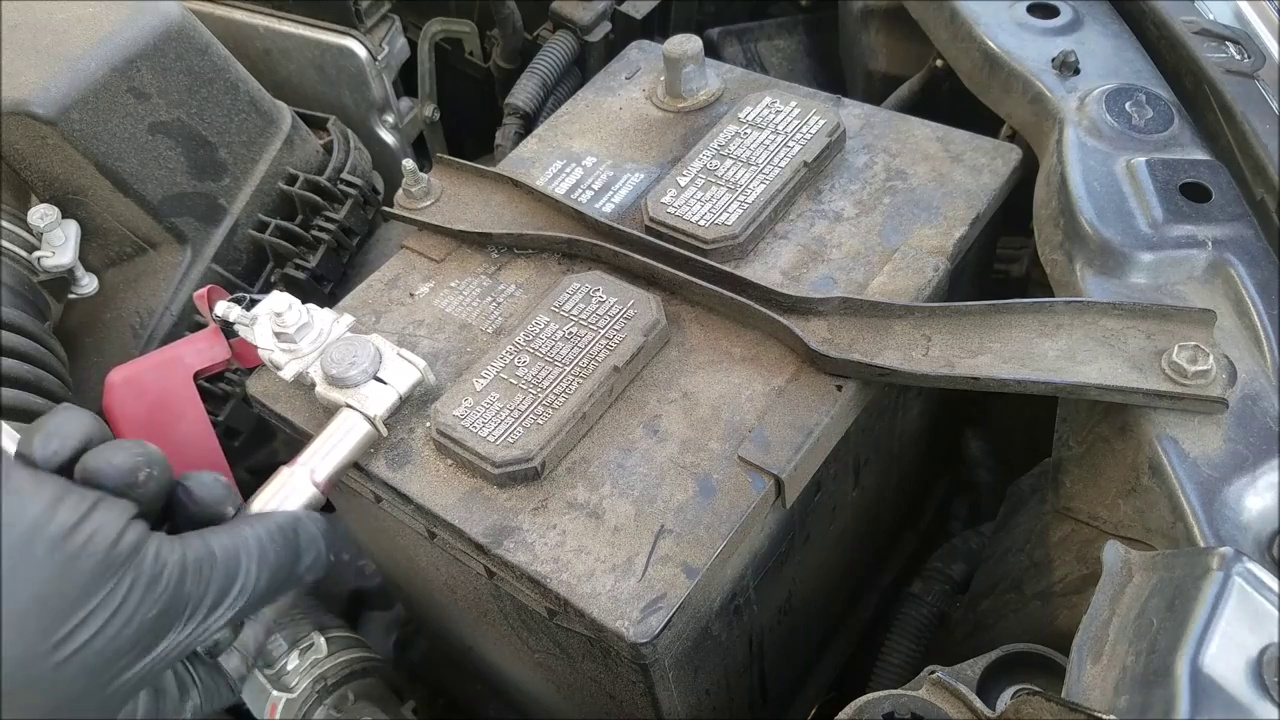battery: (241, 35, 1003, 648)
neg_disconnected: (617, 14, 751, 121)
pos_connected: (121, 257, 440, 447)
pos_touched: (136, 267, 413, 686)
